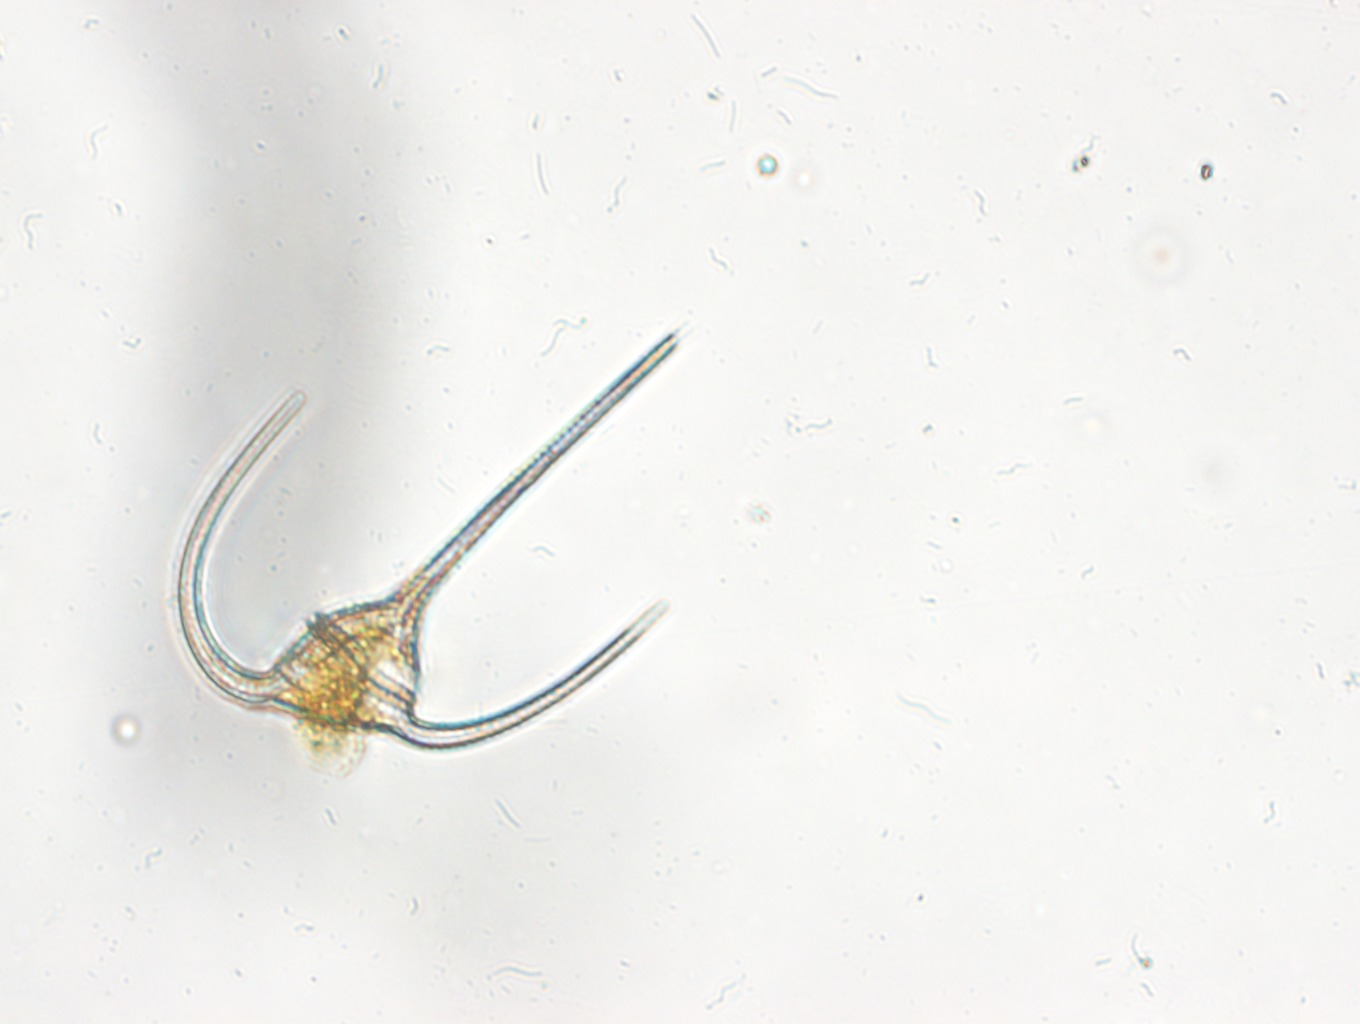ceratium trichoceros: (166, 318, 685, 759)
